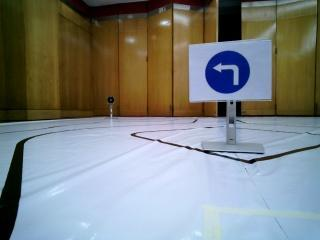left: (189, 48, 267, 97)
